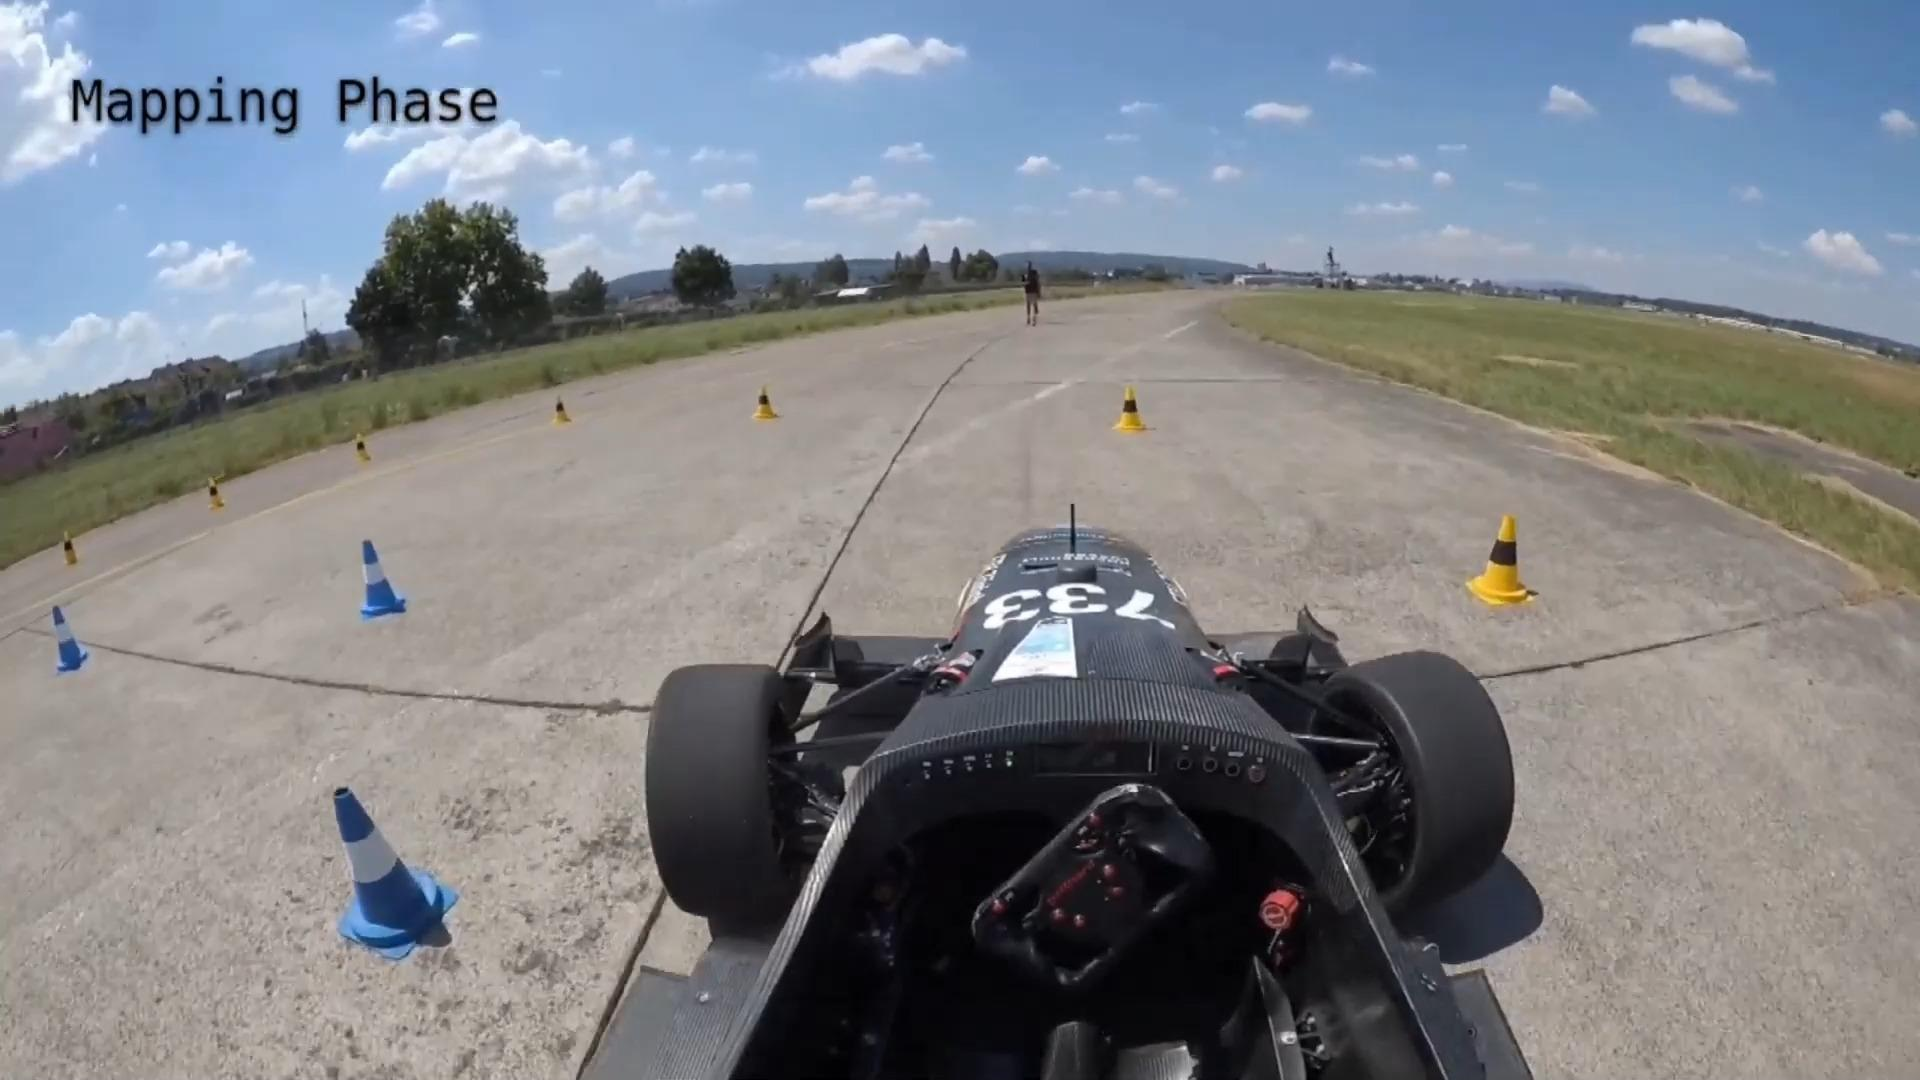blue_cone: (314, 774, 468, 961), (345, 534, 414, 621), (36, 599, 96, 682)
yellow_cone: (1465, 505, 1544, 613), (1110, 381, 1151, 436), (752, 381, 781, 425), (204, 476, 227, 512), (551, 396, 575, 427), (351, 433, 375, 463), (63, 529, 80, 567)
